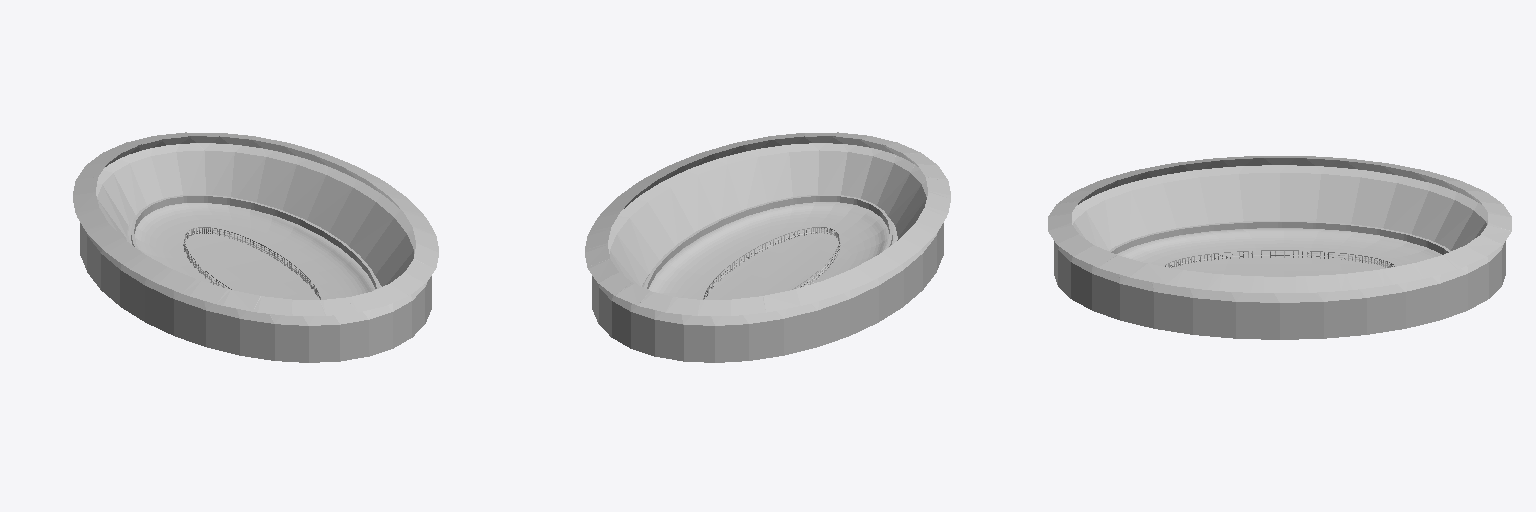
Rendered from Stade_et_pisteV3.obj.
3 views of the same model, side by side, from view 1: azimuth 30°, elevation 25°; view 2: azimuth 150°, elevation 25°; view 3: azimuth 270°, elevation 25° (orthographic).
Parts seen in each view (by area): view 1: Stade, Piste, Barriere; view 2: Stade, Piste, Barriere; view 3: Stade, Piste, Barriere.
Boxes of the visible parts, x1,y1,x2,y2 form: Stade: [73, 132, 438, 362]; Piste: [126, 203, 381, 299]; Barriere: [183, 227, 320, 299]; Stade: [585, 132, 950, 362]; Piste: [642, 202, 897, 299]; Barriere: [703, 227, 840, 299]; Stade: [1048, 156, 1511, 339]; Piste: [1116, 228, 1441, 276]; Barriere: [1165, 250, 1394, 267].
Bounding box in the file's own units: 44.7 × 11.72 × 63.79.